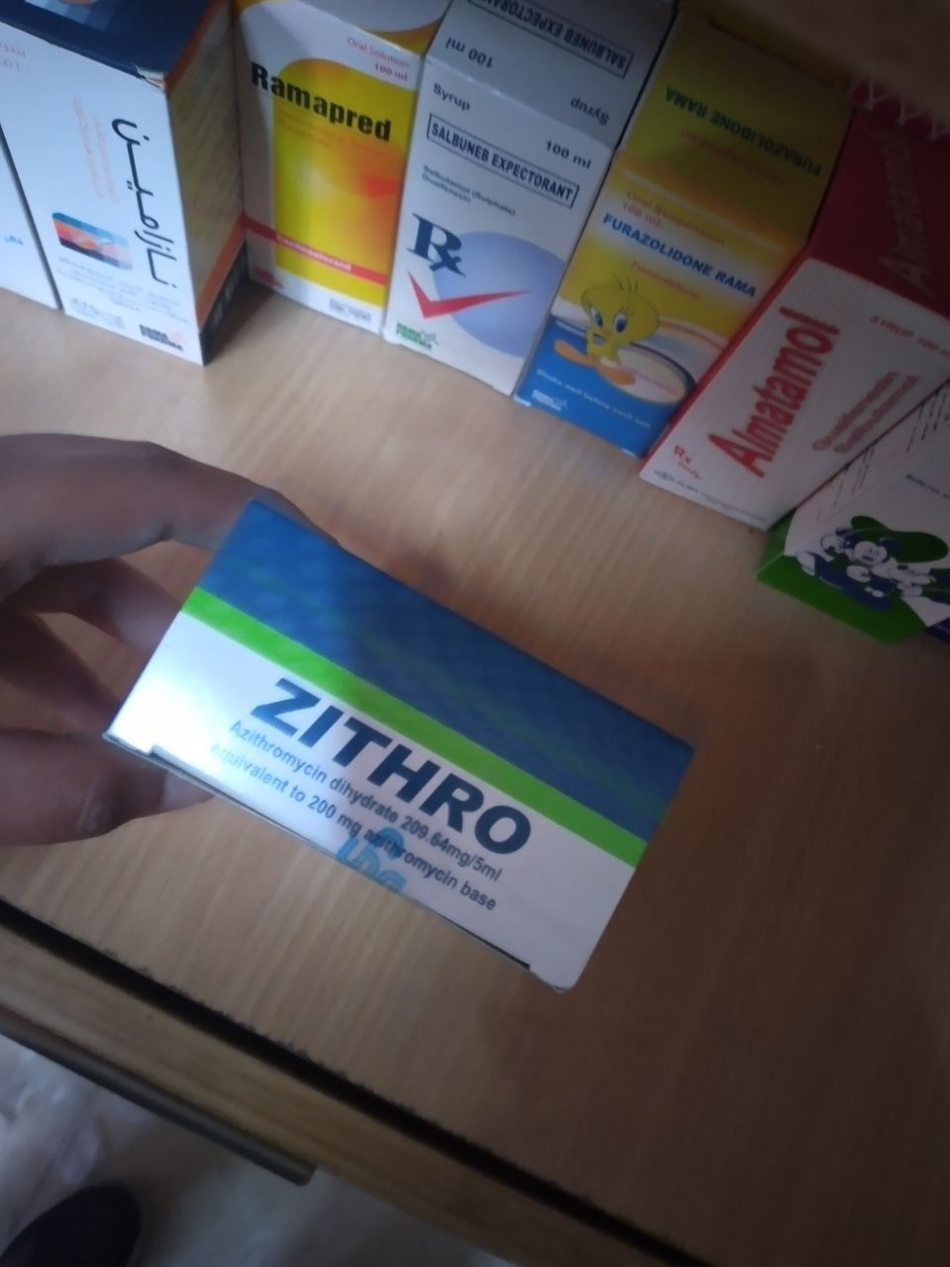Medicine: (119, 478, 716, 1006), (663, 228, 950, 604), (396, 0, 637, 422), (541, 112, 805, 478), (0, 0, 254, 379), (231, 0, 402, 363)
